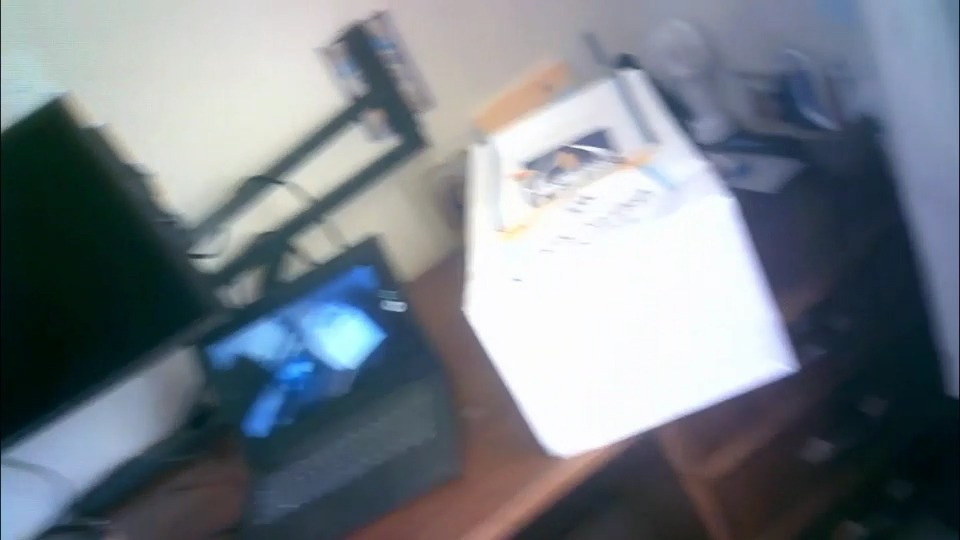wheat_flour_blue_label: (458, 69, 800, 458)
